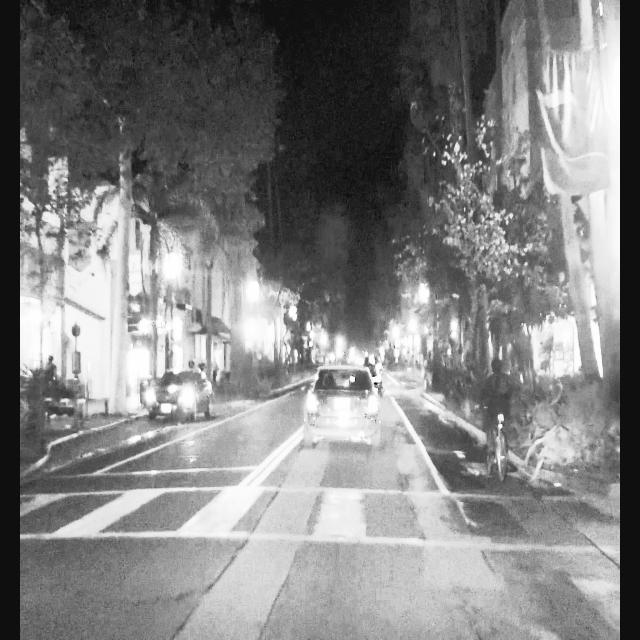Bicycle: (482, 407, 508, 482)
Car: (306, 366, 383, 452)
Person: (482, 358, 516, 430)
Tree: (554, 0, 620, 472)
